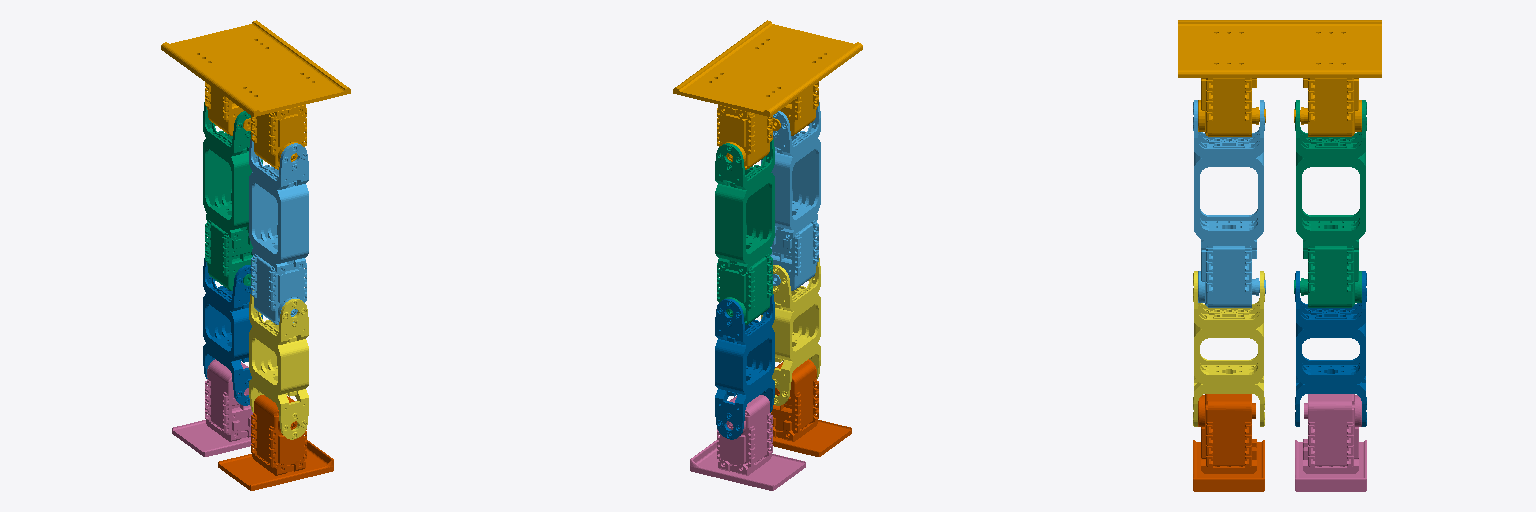
The robot description file, URDF, robot "BIPED_6DOF":
<?xml version="1.0" ?>
<robot name="BIPED_6DOF">

<material name="silver">
  <color rgba="0.700 0.700 0.700 1.000"/>
</material>

<link name="base_link">
  <inertial>
    <origin xyz="-0.029594020996054855 0.0022273598022677986 0.29606315820319495" rpy="0 0 0"/>
    <mass value="0.2005127443560309"/>
    <inertia ixx="0.00037370842342260985" iyy="0.00012932219548198592" izz="0.0003374406043402189" ixy="4.3430727887115025e-08" iyz="6.042379866854491e-13" ixz="-1.3721832272869938e-09"/>
  </inertial>
  <visual>
    <origin xyz="0 0 0" rpy="0 0 0"/>
    <geometry>
      <mesh filename="meshes_6DOF/base_link.stl" scale="0.001 0.001 0.001"/>
    </geometry>
    <material name="silver"/>
    <material/>
  </visual>
  <collision>
    <origin xyz="0 0 0" rpy="0 0 0"/>
    <geometry>
      <mesh filename="meshes_6DOF/base_link.stl" scale="0.001 0.001 0.001"/>
    </geometry>
  </collision>
</link>

<link name="left_thigh_1">
  <inertial>
    <origin xyz="8.125937269596456e-06 0.020408159286522773 -0.0896235733402457" rpy="0 0 0"/>
    <mass value="0.09724735320093421"/>
    <inertia ixx="0.00016757359582272608" iyy="0.00015436713621375586" izz="2.4327023901887752e-05" ixy="2.9173951578370747e-09" iyz="-1.678994153012374e-06" ixz="7.503417914778154e-09"/>
  </inertial>
  <visual>
    <origin xyz="0.0296 0.053773 -0.2685" rpy="0 0 0"/>
    <geometry>
      <mesh filename="meshes_6DOF/left_thigh_1.stl" scale="0.001 0.001 0.001"/>
    </geometry>
    <material name="silver"/>
    <material/>
  </visual>
  <collision>
    <origin xyz="0.0296 0.053773 -0.2685" rpy="0 0 0"/>
    <geometry>
      <mesh filename="meshes_6DOF/left_thigh_1.stl" scale="0.001 0.001 0.001"/>
    </geometry>
  </collision>
</link>

<link name="right_thigh1">
  <inertial>
    <origin xyz="-1.0633864417439881e-05 -0.020407415752915138 -0.08962336772470209" rpy="0 0 0"/>
    <mass value="0.09724757540112071"/>
    <inertia ixx="0.00016757541814631498" iyy="0.00015436894766115896" izz="2.432704295913816e-05" ixy="2.802235268725391e-09" iyz="1.6787833269476518e-06" ixz="-5.05657801654763e-09"/>
  </inertial>
  <visual>
    <origin xyz="0.029589 -0.058227 -0.2685" rpy="0 0 0"/>
    <geometry>
      <mesh filename="meshes_6DOF/right_thigh1.stl" scale="0.001 0.001 0.001"/>
    </geometry>
    <material name="silver"/>
    <material/>
  </visual>
  <collision>
    <origin xyz="0.029589 -0.058227 -0.2685" rpy="0 0 0"/>
    <geometry>
      <mesh filename="meshes_6DOF/right_thigh1.stl" scale="0.001 0.001 0.001"/>
    </geometry>
  </collision>
</link>

<link name="left_knee1">
  <inertial>
    <origin xyz="8.520880527829178e-07 0.021000359800422204 -0.04699974908701893" rpy="0 0 0"/>
    <mass value="0.040048197351373965"/>
    <inertia ixx="3.92691557144559e-05" iyy="2.903977167525323e-05" izz="1.5009422132497026e-05" ixy="1.395910297075087e-18" iyz="1.0273366765579592e-12" ixz="5.55653613398821e-19"/>
  </inertial>
  <visual>
    <origin xyz="0.0296 0.053773 -0.139" rpy="0 0 0"/>
    <geometry>
      <mesh filename="meshes_6DOF/left_knee1.stl" scale="0.001 0.001 0.001"/>
    </geometry>
    <material name="silver"/>
    <material/>
  </visual>
  <collision>
    <origin xyz="0.0296 0.053773 -0.139" rpy="0 0 0"/>
    <geometry>
      <mesh filename="meshes_6DOF/left_knee1.stl" scale="0.001 0.001 0.001"/>
    </geometry>
  </collision>
</link>

<link name="right_knee1">
  <inertial>
    <origin xyz="8.413480917304761e-07 -0.020999640199578208 -0.04699974908701822" rpy="0 0 0"/>
    <mass value="0.04004819735137413"/>
    <inertia ixx="3.9269155714456066e-05" iyy="2.903977167525442e-05" izz="1.5009422132496755e-05" ixy="1.0164395367051604e-19" iyz="1.0273380724682563e-12" ixz="4.472333961502706e-19"/>
  </inertial>
  <visual>
    <origin xyz="0.029589 -0.058227 -0.139" rpy="0 0 0"/>
    <geometry>
      <mesh filename="meshes_6DOF/right_knee1.stl" scale="0.001 0.001 0.001"/>
    </geometry>
    <material name="silver"/>
    <material/>
  </visual>
  <collision>
    <origin xyz="0.029589 -0.058227 -0.139" rpy="0 0 0"/>
    <geometry>
      <mesh filename="meshes_6DOF/right_knee1.stl" scale="0.001 0.001 0.001"/>
    </geometry>
  </collision>
</link>

<link name="left_foot1">
  <inertial>
    <origin xyz="-0.000199142853862095 0.02014035791386131 -0.02093934969816068" rpy="0 0 0"/>
    <mass value="0.07898483612777403"/>
    <inertia ixx="3.510255370536421e-05" iyy="3.680703321818653e-05" izz="2.282470699136829e-05" ixy="1.0109274132069049e-08" iyz="8.047843336740461e-07" ixz="-4.774390428667077e-07"/>
  </inertial>
  <visual>
    <origin xyz="0.0296 0.053773 -0.045" rpy="0 0 0"/>
    <geometry>
      <mesh filename="meshes_6DOF/left_foot1.stl" scale="0.001 0.001 0.001"/>
    </geometry>
    <material name="silver"/>
    <material/>
  </visual>
  <collision>
    <origin xyz="0.0296 0.053773 -0.045" rpy="0 0 0"/>
    <geometry>
      <mesh filename="meshes_6DOF/left_foot1.stl" scale="0.001 0.001 0.001"/>
    </geometry>
  </collision>
</link>

<link name="right_foot1">
  <inertial>
    <origin xyz="-0.00017607100524496752 -0.020139638133281325 -0.020939349531155355" rpy="0 0 0"/>
    <mass value="0.07898483525804643"/>
    <inertia ixx="3.510255302518873e-05" iyy="3.680771525129755e-05" izz="2.282538874780757e-05" ixy="-1.5340981659756493e-08" iyz="-8.047842296740533e-07" ixz="-4.554828274700844e-07"/>
  </inertial>
  <visual>
    <origin xyz="0.029589 -0.058227 -0.045" rpy="0 0 0"/>
    <geometry>
      <mesh filename="meshes_6DOF/right_foot1.stl" scale="0.001 0.001 0.001"/>
    </geometry>
    <material name="silver"/>
    <material/>
  </visual>
  <collision>
    <origin xyz="0.029589 -0.058227 -0.045" rpy="0 0 0"/>
    <geometry>
      <mesh filename="meshes_6DOF/right_foot1.stl" scale="0.001 0.001 0.001"/>
    </geometry>
  </collision>
</link>

<joint name="Revolute_56" type="continuous">
  <origin xyz="-0.0296 -0.053773 0.2685" rpy="0 0 0"/>
  <parent link="base_link"/>
  <child link="left_thigh_1"/>
  <axis xyz="0.0 1.0 0.0"/>
</joint>
<transmission name="Revolute_56_tran">
  <type>transmission_interface/SimpleTransmission</type>
  <joint name="Revolute_56">
    <hardwareInterface>PositionJointInterface</hardwareInterface>
  </joint>
  <actuator name="Revolute_56_actr">
    <hardwareInterface>PositionJointInterface</hardwareInterface>
    <mechanicalReduction>1</mechanicalReduction>
  </actuator>
</transmission>

<joint name="Revolute_57" type="continuous">
  <origin xyz="-0.029589 0.058227 0.2685" rpy="0 0 0"/>
  <parent link="base_link"/>
  <child link="right_thigh1"/>
  <axis xyz="-0.0 -1.0 -0.0"/>
</joint>
<transmission name="Revolute_57_tran">
  <type>transmission_interface/SimpleTransmission</type>
  <joint name="Revolute_57">
    <hardwareInterface>PositionJointInterface</hardwareInterface>
  </joint>
  <actuator name="Revolute_57_actr">
    <hardwareInterface>PositionJointInterface</hardwareInterface>
    <mechanicalReduction>1</mechanicalReduction>
  </actuator>
</transmission>

<joint name="Revolute_58" type="continuous">
  <origin xyz="0.0 0.0 -0.1295" rpy="0 0 0"/>
  <parent link="left_thigh_1"/>
  <child link="left_knee1"/>
  <axis xyz="-0.0 1.0 0.0"/>
</joint>
<transmission name="Revolute_58_tran">
  <type>transmission_interface/SimpleTransmission</type>
  <joint name="Revolute_58">
    <hardwareInterface>PositionJointInterface</hardwareInterface>
  </joint>
  <actuator name="Revolute_58_actr">
    <hardwareInterface>PositionJointInterface</hardwareInterface>
    <mechanicalReduction>1</mechanicalReduction>
  </actuator>
</transmission>

<joint name="Revolute_59" type="continuous">
  <origin xyz="0.0 0.0 -0.1295" rpy="0 0 0"/>
  <parent link="right_thigh1"/>
  <child link="right_knee1"/>
  <axis xyz="0.0 -1.0 -0.0"/>
</joint>
<transmission name="Revolute_59_tran">
  <type>transmission_interface/SimpleTransmission</type>
  <joint name="Revolute_59">
    <hardwareInterface>PositionJointInterface</hardwareInterface>
  </joint>
  <actuator name="Revolute_59_actr">
    <hardwareInterface>PositionJointInterface</hardwareInterface>
    <mechanicalReduction>1</mechanicalReduction>
  </actuator>
</transmission>

<joint name="Revolute_60" type="continuous">
  <origin xyz="0.0 0.0 -0.094" rpy="0 0 0"/>
  <parent link="left_knee1"/>
  <child link="left_foot1"/>
  <axis xyz="-0.0 1.0 0.0"/>
</joint>
<transmission name="Revolute_60_tran">
  <type>transmission_interface/SimpleTransmission</type>
  <joint name="Revolute_60">
    <hardwareInterface>PositionJointInterface</hardwareInterface>
  </joint>
  <actuator name="Revolute_60_actr">
    <hardwareInterface>PositionJointInterface</hardwareInterface>
    <mechanicalReduction>1</mechanicalReduction>
  </actuator>
</transmission>

<joint name="Revolute_61" type="continuous">
  <origin xyz="0.0 0.0 -0.094" rpy="0 0 0"/>
  <parent link="right_knee1"/>
  <child link="right_foot1"/>
  <axis xyz="-0.0 1.0 0.0"/>
</joint>
<transmission name="Revolute_61_tran">
  <type>transmission_interface/SimpleTransmission</type>
  <joint name="Revolute_61">
    <hardwareInterface>PositionJointInterface</hardwareInterface>
  </joint>
  <actuator name="Revolute_61_actr">
    <hardwareInterface>PositionJointInterface</hardwareInterface>
    <mechanicalReduction>1</mechanicalReduction>
  </actuator>
</transmission>

</robot>

--- Facts derived from the render (not from the file) ---
3 views of the same robot in one strip: view 1: azimuth 30°, elevation 25°; view 2: azimuth 150°, elevation 25°; view 3: azimuth 270°, elevation 25° (orthographic).
Model BIPED_6DOF with 7 links and 6 joints (6 continuous), rooted at base_link, posed every joint at zero.
Links seen in each view (by area): view 1: base_link, left_thigh_1, right_thigh1, left_knee1, left_foot1, right_knee1, right_foot1; view 2: base_link, right_thigh1, left_thigh_1, right_knee1, right_foot1, left_knee1, left_foot1; view 3: base_link, right_thigh1, left_thigh_1, left_foot1, right_foot1, left_knee1, right_knee1.
Link boxes in pixels (box(x1,y1,x2,y2)): base_link: box(161, 20, 350, 169); left_thigh_1: box(249, 135, 308, 324); right_thigh1: box(203, 102, 262, 290); left_knee1: box(249, 290, 308, 439); left_foot1: box(218, 395, 333, 490); right_knee1: box(203, 258, 262, 405); right_foot1: box(172, 359, 253, 456); base_link: box(673, 20, 862, 169); right_thigh1: box(715, 135, 774, 324); left_thigh_1: box(761, 102, 820, 290); right_knee1: box(715, 290, 774, 439); right_foot1: box(690, 395, 805, 490); left_knee1: box(761, 258, 820, 405); left_foot1: box(770, 359, 851, 456); base_link: box(1178, 20, 1381, 136); right_thigh1: box(1294, 100, 1366, 307); left_thigh_1: box(1193, 100, 1265, 307); left_foot1: box(1193, 394, 1264, 491); right_foot1: box(1295, 394, 1366, 491); left_knee1: box(1193, 271, 1264, 426); right_knee1: box(1295, 271, 1366, 426).
Size in the robot's own frame: 0.085 by 0.14 by 0.322 metres.
Meshes: 7 distinct files referenced, 7 mesh visuals loaded (7 binary STL).